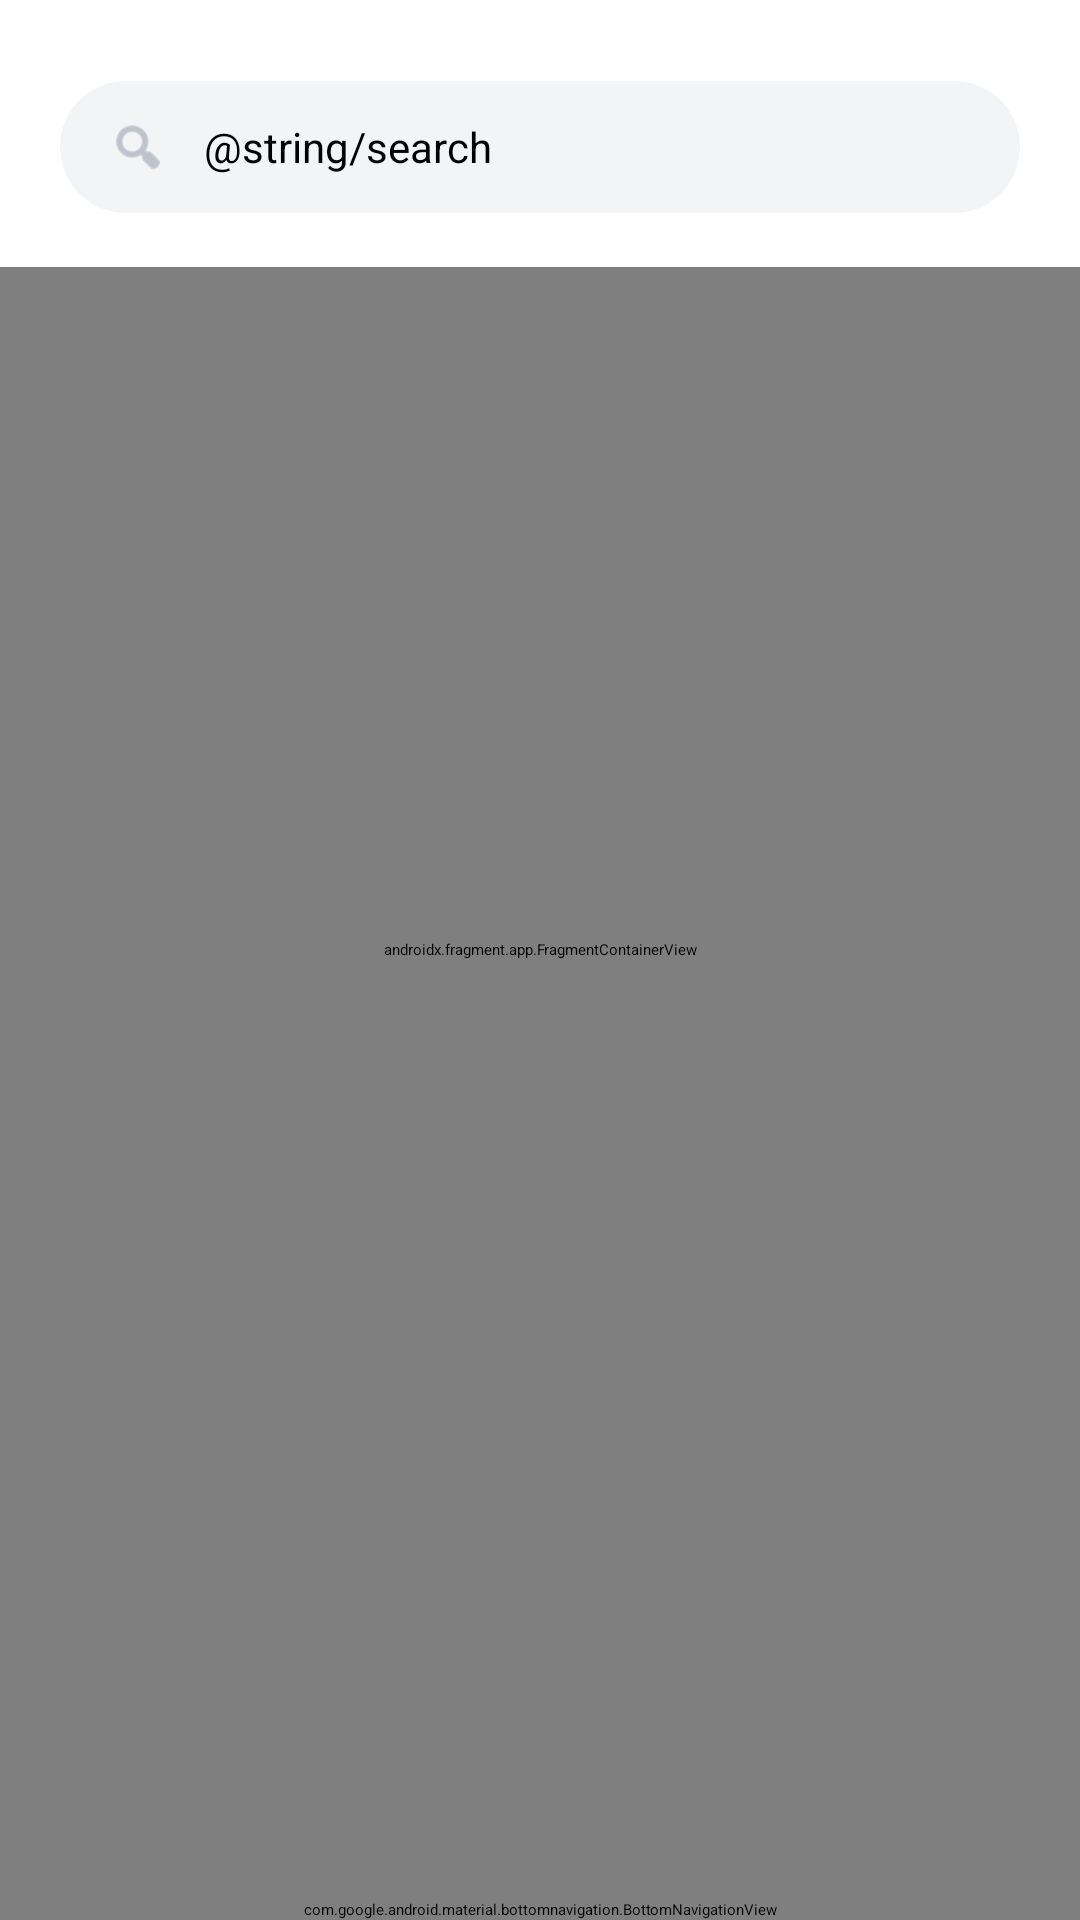

Named icons in this screenshot (1080px x 1920px) and their bounding boxes, (x1, y1, x2, y2):
search: (116, 125, 160, 169)
